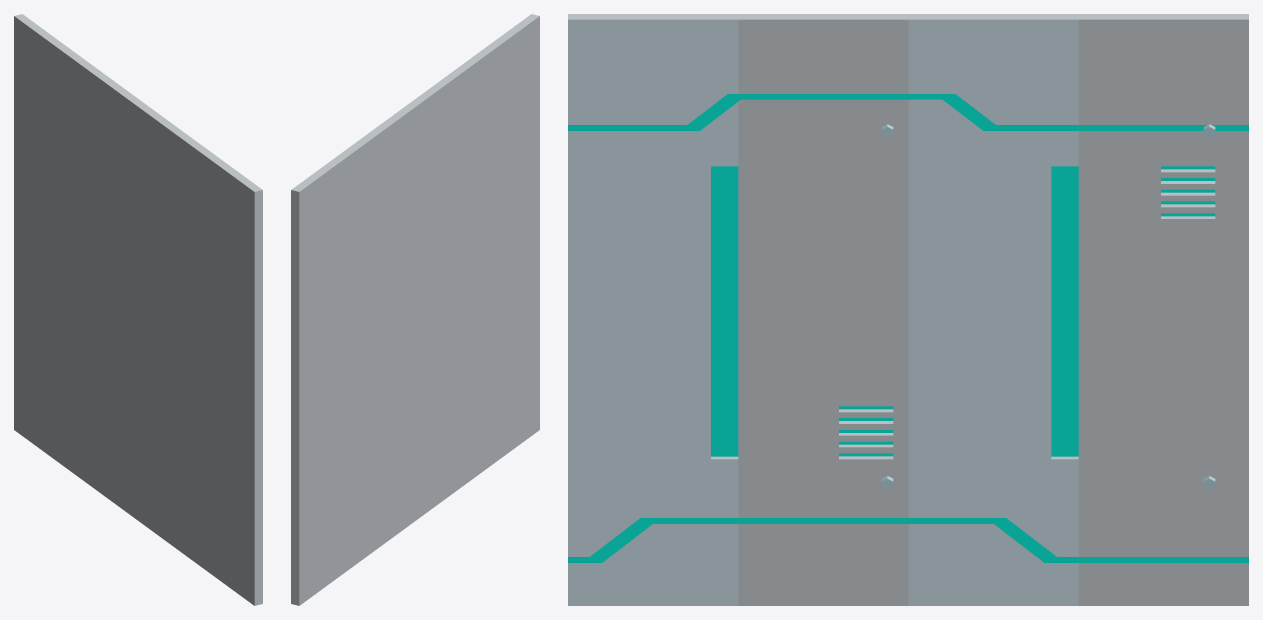
The model's file is wall-02.fbx.
3 views of the same model, side by side, from view 1: azimuth 30°, elevation 25°; view 2: azimuth 150°, elevation 25°; view 3: azimuth 270°, elevation 25° (orthographic). The views are drawn at different scales.
Parts seen in each view (by area): view 1: wall-02; view 2: wall-02; view 3: wall-02.
Part boxes in pixels (x1,y1,x2,y2): wall-02: (14,14,262,605); wall-02: (291,14,539,605); wall-02: (568,14,1248,605).
Bounding box in the file's own units: 3 × 95 × 100.
